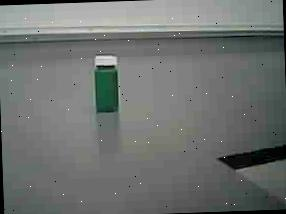Bottle C: (86, 48, 129, 122)
